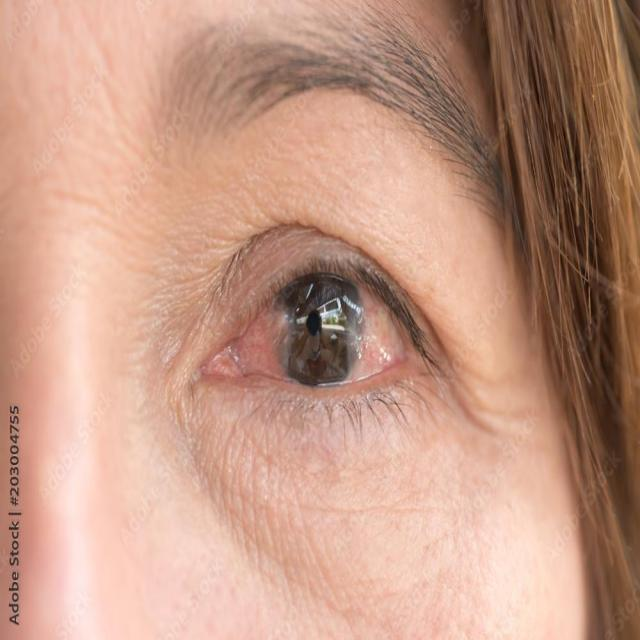Pterygium: (219, 288, 310, 374), (342, 284, 412, 380)
